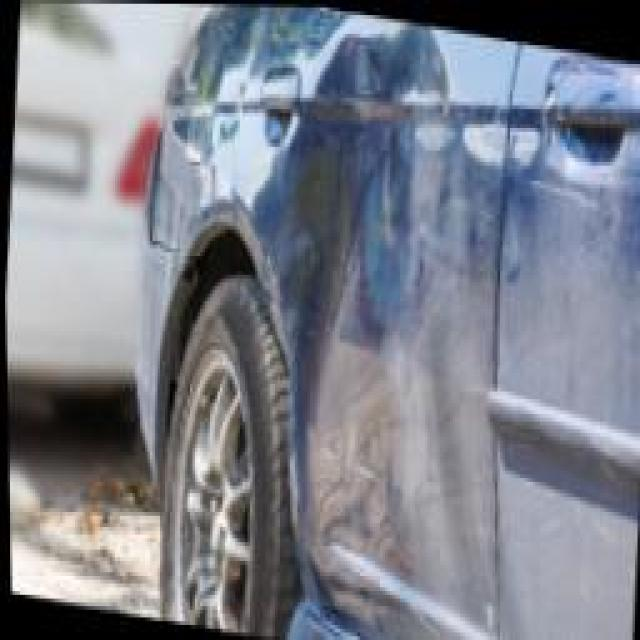Door: (235, 4, 520, 640)
